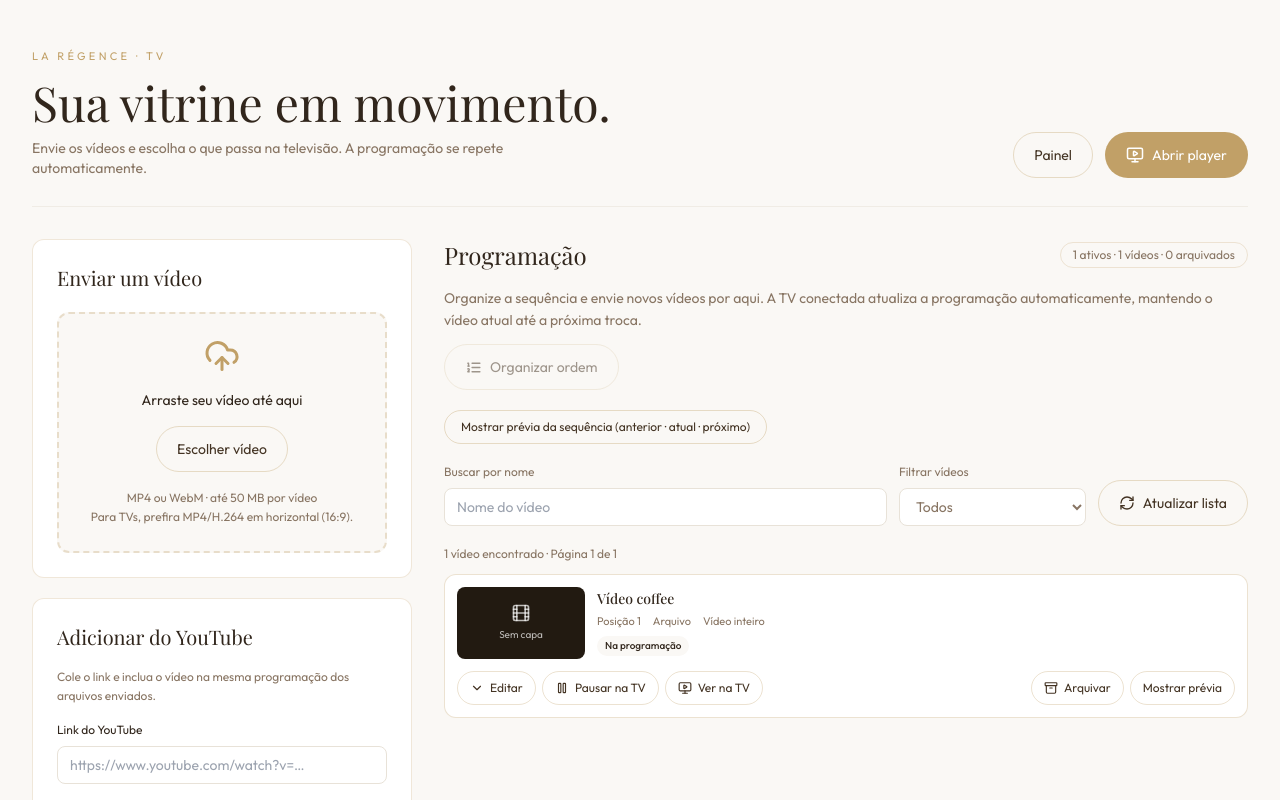
it: loads saved transition settings into the editor
This screenshot has width=1280, height=800.
Click the button "Editar" at coordinates (496, 688), box [457,671,536,705]
(page scrolled)
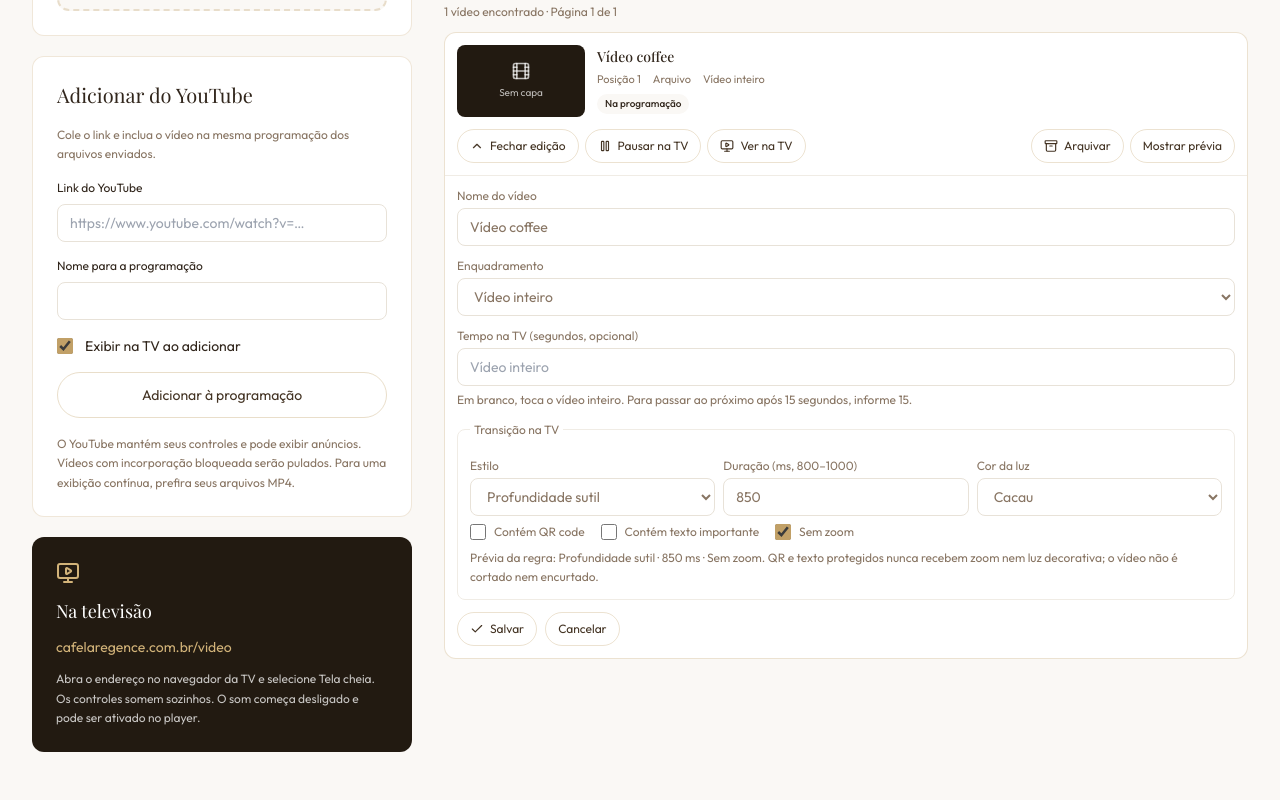
expect the dropdown labelled "Estilo" shows "Profundidade sutil": met, box [470,478,715,516]
expect the number field labelled "Duração (ms, 800–1000)" holds "850": met, box [723,478,969,516]
expect the dropdown labelled "Cor da luz" shows "Cacau": met, box [977,478,1222,516]
